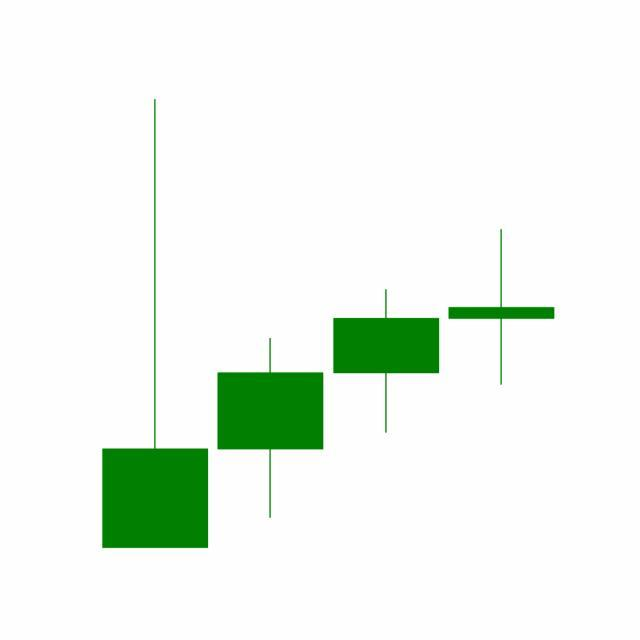Spinning Top: (444, 228, 560, 388)
